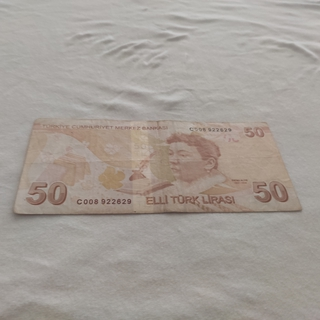50TLBack: (12, 119, 301, 215)
